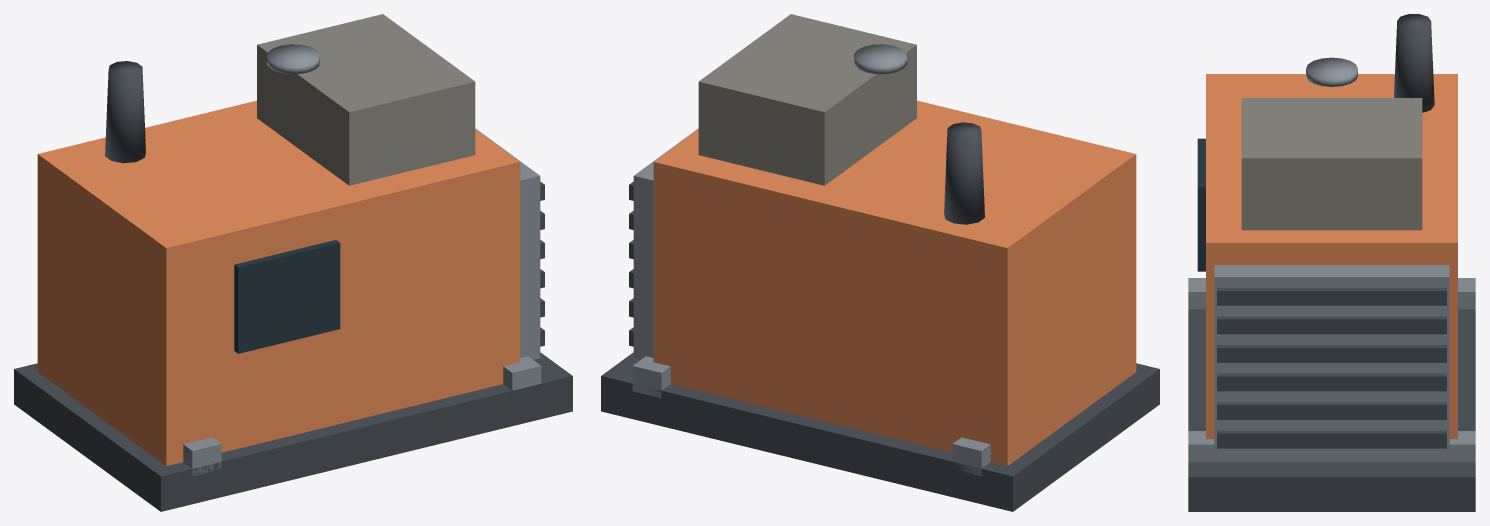
File: prop_generator.glb
3 views of the same model, side by side, from view 1: azimuth 30°, elevation 25°; view 2: azimuth 150°, elevation 25°; view 3: azimuth 270°, elevation 25° (orthographic). The views are drawn at different scales.
Visible parts, largest first — view 1: housing, tank, skid, panel, rad, exhaust, cap, lug, lug.001; view 2: housing, tank, skid, rad, exhaust, cap, lug.001, lug; view 3: housing, tank, rad, skid, fin, fin.002, fin.004, fin.001, fin.003, fin.005, lug.001, exhaust (+3 smaller).
Part boxes in pixels (x1=…): housing: x1=37, y1=100, x2=520, y2=466; tank: x1=257, y1=14, x2=475, y2=185; skid: x1=14, y1=352, x2=572, y2=511; panel: x1=234, y1=240, x2=340, y2=353; rad: x1=475, y1=128, x2=540, y2=359; exhaust: x1=105, y1=61, x2=145, y2=163; cap: x1=267, y1=44, x2=319, y2=74; lug: x1=183, y1=437, x2=221, y2=475; lug.001: x1=503, y1=356, x2=541, y2=390; housing: x1=653, y1=100, x2=1136, y2=466; tank: x1=698, y1=14, x2=916, y2=185; skid: x1=601, y1=352, x2=1159, y2=511; rad: x1=633, y1=128, x2=698, y2=359; exhaust: x1=944, y1=122, x2=984, y2=224; cap: x1=854, y1=44, x2=906, y2=74; lug.001: x1=632, y1=356, x2=670, y2=398; lug: x1=952, y1=437, x2=990, y2=476; housing: x1=1206, y1=74, x2=1457, y2=438; tank: x1=1241, y1=98, x2=1422, y2=230; rad: x1=1214, y1=265, x2=1449, y2=455; skid: x1=1188, y1=309, x2=1475, y2=511; fin: x1=1217, y1=430, x2=1446, y2=448; fin.002: x1=1217, y1=373, x2=1446, y2=391; fin.004: x1=1217, y1=316, x2=1446, y2=334; fin.001: x1=1217, y1=402, x2=1446, y2=419; fin.003: x1=1217, y1=345, x2=1446, y2=362; fin.005: x1=1217, y1=288, x2=1446, y2=305; lug.001: x1=1188, y1=431, x2=1475, y2=462; exhaust: x1=1394, y1=14, x2=1434, y2=112.
Bounding box in the file's own units: 1.7 × 1.39 × 1.05.
